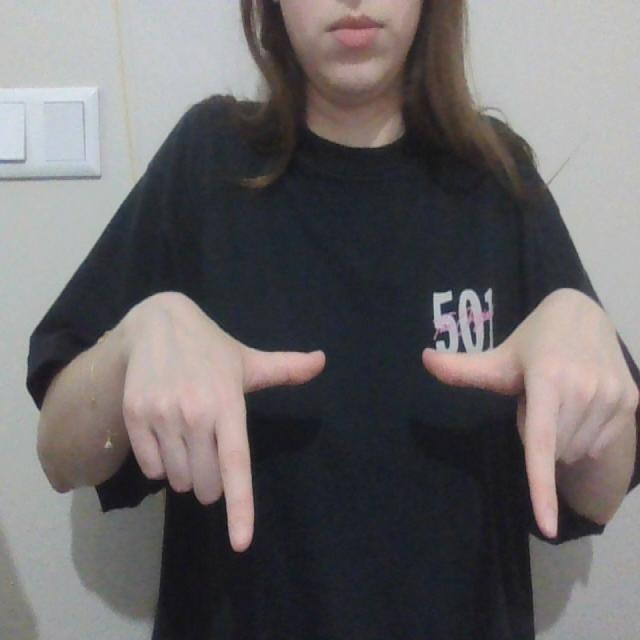Nerede: (204, 328, 566, 554)
